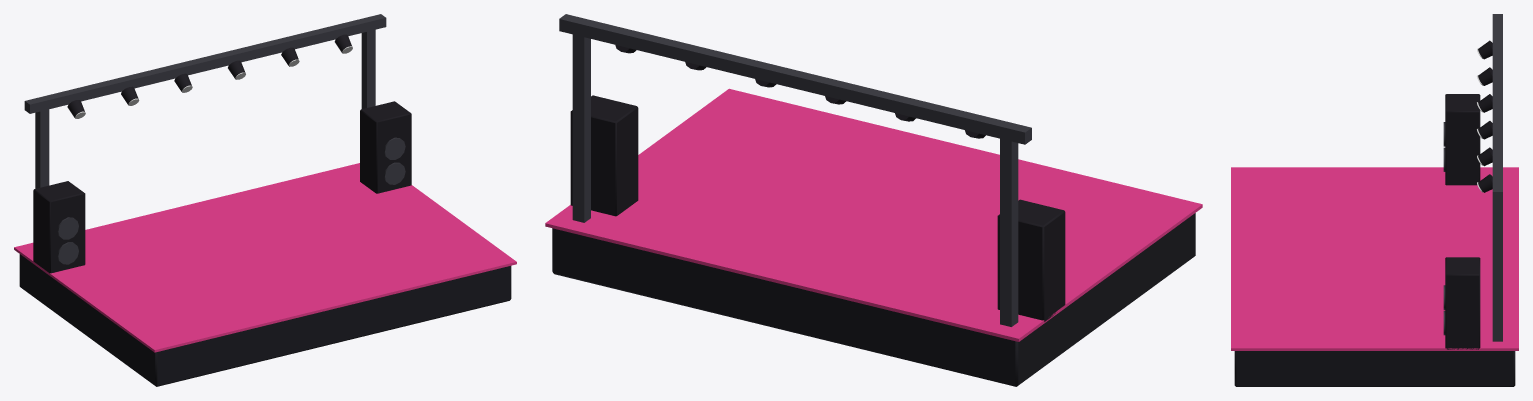
The model's file is halftime_stage.glb.
3 renders of one model, left to right at view 1: azimuth 30°, elevation 25°; view 2: azimuth 150°, elevation 25°; view 3: azimuth 270°, elevation 25°, orthographic. The views are drawn at different scales.
Parts seen in each view (by area): view 1: halftime_stage; view 2: halftime_stage; view 3: halftime_stage.
Boxes of the visible parts, x1,y1,x2,y2 form: halftime_stage: (14, 14, 516, 386); halftime_stage: (545, 14, 1202, 386); halftime_stage: (1231, 14, 1518, 386).
Bounding box in the file's own units: 12.2 × 6.15 × 8.2.
